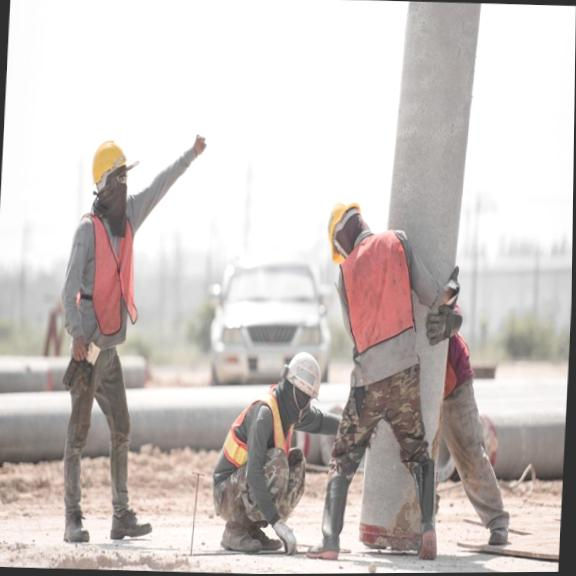safety_vest: (331, 228, 417, 365), (84, 207, 144, 343)
